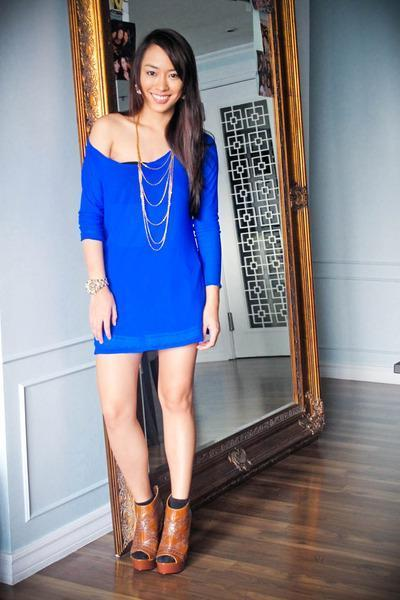dress: (76, 122, 224, 356)
